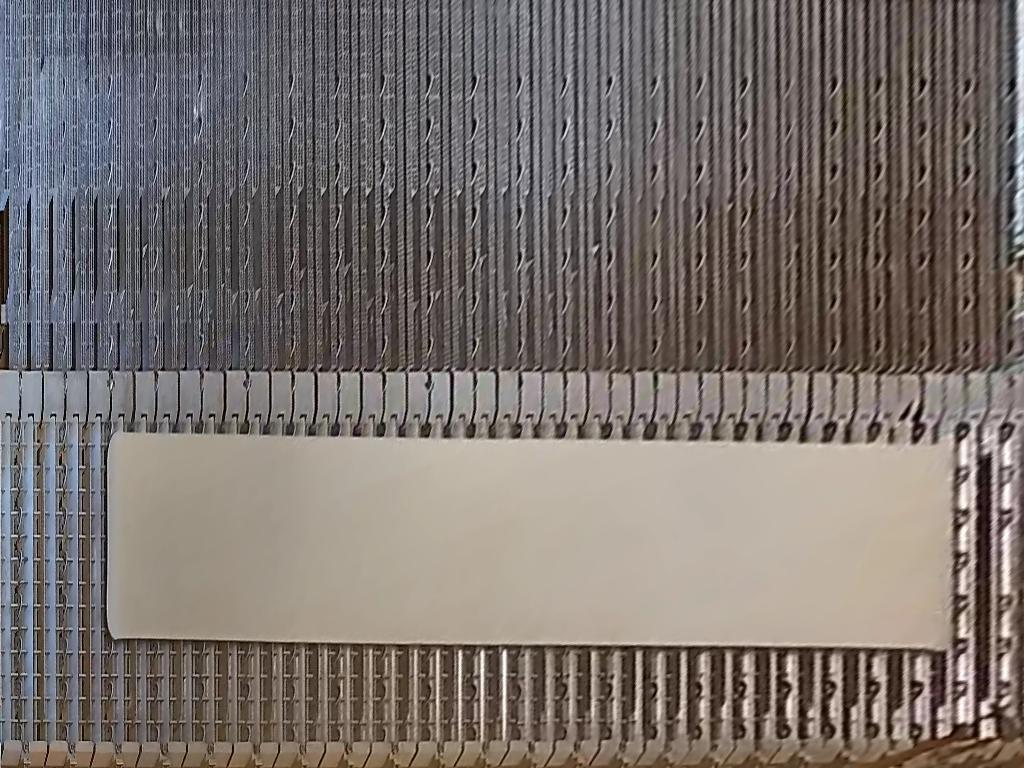steel: (106, 430, 955, 651)
